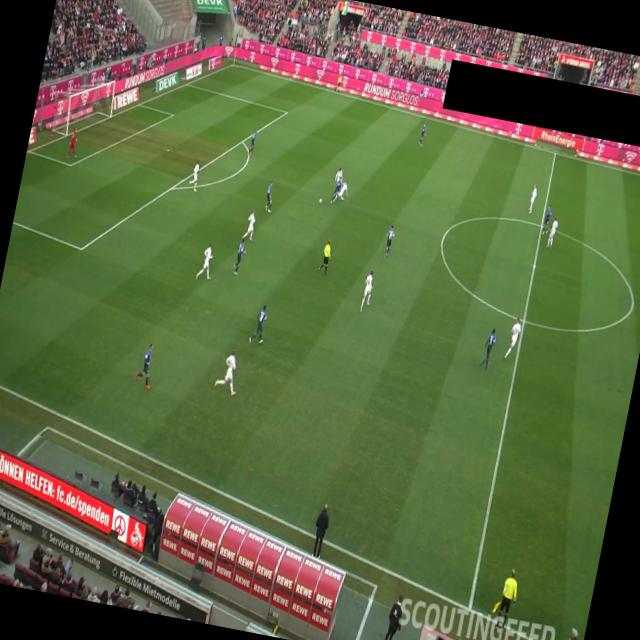ball: (318, 197, 323, 205)
goalkeeper: (66, 127, 82, 160)
player: (212, 348, 244, 398), (132, 341, 158, 389), (248, 302, 271, 346), (195, 241, 218, 284), (503, 316, 523, 362), (478, 326, 498, 371), (359, 268, 376, 314), (232, 238, 248, 276), (262, 179, 278, 213), (242, 209, 258, 242), (383, 223, 397, 260), (333, 178, 351, 205), (331, 166, 345, 200), (188, 160, 202, 192), (546, 217, 560, 249), (542, 203, 554, 236), (527, 183, 539, 216), (246, 128, 258, 160), (331, 176, 344, 204), (417, 123, 428, 148)
referee: (488, 566, 522, 630), (318, 238, 334, 275), (334, 72, 344, 95)
